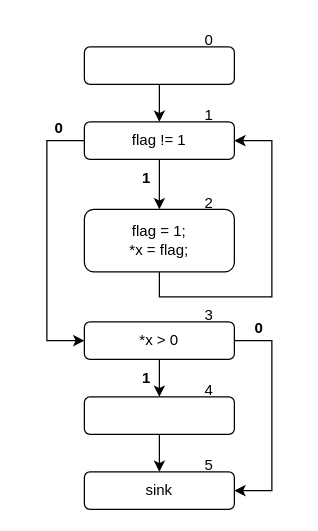
This 318x531 diagram has some shape labels left out. The shapes that lost their labels are listed below. From the top down, each one's box as (x1, y1, x2, y2) in pixels, then its label:
(83, 46, 234, 84): source
(83, 396, 234, 434): *x += 2;
